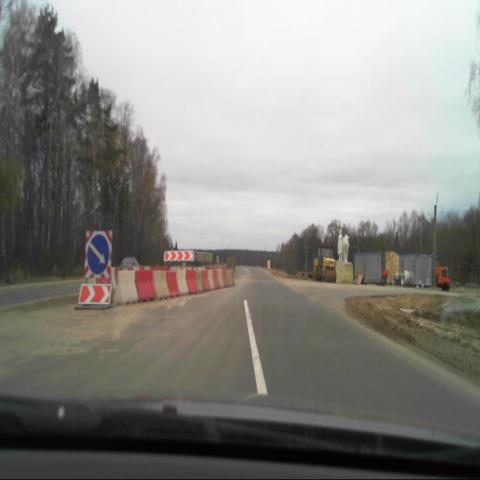4_2_1: (86, 229, 112, 278)
